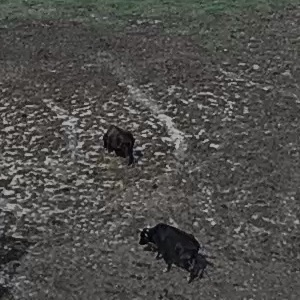cow: (126, 216, 220, 286), (88, 118, 163, 173)
